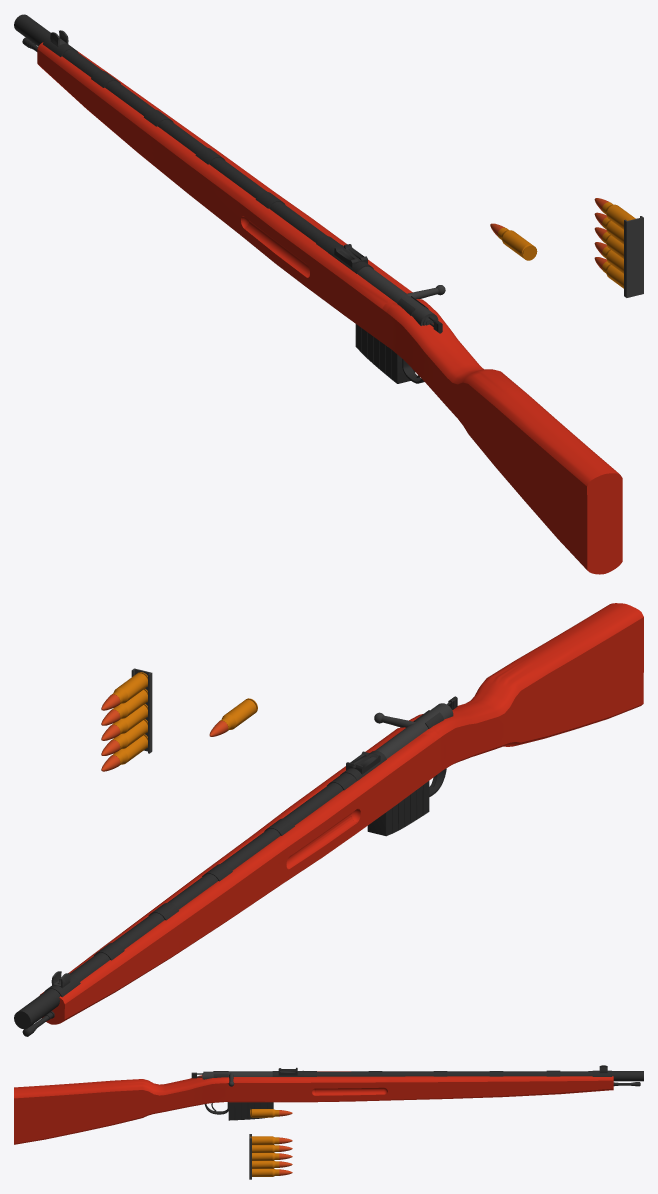
The model's file is Bolt_Action_Rifle.obj.
3 views of the same model, one above another, from view 1: azimuth 30°, elevation 25°; view 2: azimuth 150°, elevation 25°; view 3: azimuth 270°, elevation 25° (orthographic). The views are drawn at different scales.
Visible parts, largest first — view 1: pCube18_Mesh.023, pCylinder1_Mesh, pCube19_Mesh.028, pCube3_Mesh.006, pCylinder6_Mesh.002; view 2: pCube18_Mesh.023, pCylinder1_Mesh, pCube3_Mesh.006, pCylinder6_Mesh.002, pCylinder25.005_Mesh.037, pCylinder25_Mesh.026; view 3: pCube18_Mesh.023, pCylinder1_Mesh, pCube3_Mesh.006, pCylinder6_Mesh.002, pCylinder25_Mesh.026, pCylinder25.005_Mesh.037, pCylinder25.002_Mesh.033, pCylinder25.004_Mesh.036, pCylinder25.001_Mesh.030, pCylinder25.003_Mesh.034.
Part boxes in pixels (x1,y1,x2,y2): pCube18_Mesh.023: (37,42,622,574); pCylinder1_Mesh: (14,14,327,242); pCube19_Mesh.028: (624,216,643,297); pCube3_Mesh.006: (355,324,415,383); pCylinder6_Mesh.002: (357,266,438,325); pCube18_Mesh.023: (39,603,643,1024); pCylinder1_Mesh: (14,783,342,1029); pCube3_Mesh.006: (367,781,429,836); pCylinder6_Mesh.002: (375,703,453,758); pCylinder25.005_Mesh.037: (219,698,257,731); pCylinder25_Mesh.026: (110,672,147,705); pCube18_Mesh.023: (14,1071,613,1144); pCylinder1_Mesh: (317,1071,643,1081); pCube3_Mesh.006: (228,1102,273,1120); pCylinder6_Mesh.002: (202,1071,272,1079); pCylinder25_Mesh.026: (250,1136,279,1145); pCylinder25.005_Mesh.037: (250,1109,279,1117); pCylinder25.002_Mesh.033: (252,1160,279,1168); pCylinder25.004_Mesh.036: (252,1168,279,1176); pCylinder25.001_Mesh.030: (252,1145,279,1152); pCylinder25.003_Mesh.034: (252,1153,279,1160).
Size of the model in its own units: 5.42 by 2.67 by 19.78.
